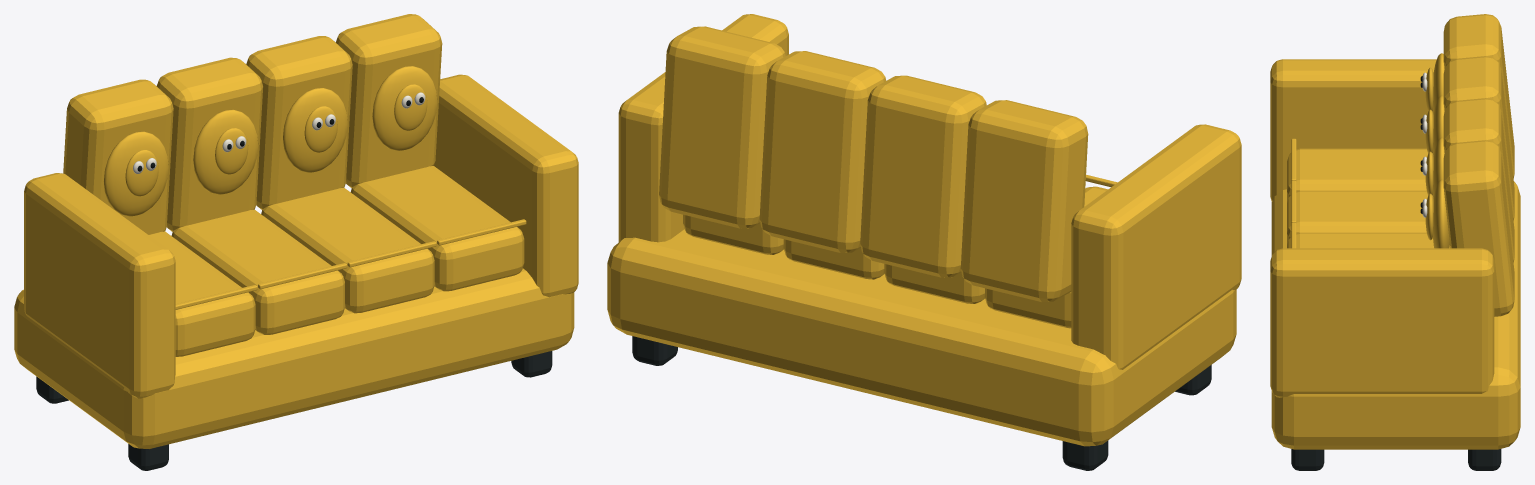
File: hiperreal.glb
3 renders of one model, left to right at view 1: azimuth 30°, elevation 25°; view 2: azimuth 150°, elevation 25°; view 3: azimuth 270°, elevation 25°, orthographic. The views are drawn at different scales.
Parts seen in each view (by area): view 1: Upholstered base, Armrest, Armrest.001, Seat cushion.003, Seat cushion.002, Seat cushion.001, Back cushion.002, Back cushion.001, Back cushion.003, Back cushion, Seat cushion, Decorative cushion (+12 smaller); view 2: Upholstered base, Armrest, Back cushion, Back cushion.001, Back cushion.003, Back cushion.002, Armrest.001, Seat cushion, Seat cushion.002, Seat cushion.001, Seat cushion.003, Sofa foot (+1 smaller); view 3: Armrest.001, Upholstered base, Armrest, Back cushion.003, Seat cushion.001, Seat cushion, Back cushion.001, Back cushion, Back cushion.002, Seat cushion.002, Decorative cushion.003, Sofa foot.002 (+8 smaller).
Boxes of the visible parts, <box> form: Upholstered base: <box>14,268,574,448</box>; Armrest: <box>24,173,175,398</box>; Armrest.001: <box>434,74,578,297</box>; Seat cushion.003: <box>350,166,524,291</box>; Seat cushion.002: <box>261,187,434,313</box>; Seat cushion.001: <box>171,209,344,334</box>; Back cushion.002: <box>246,36,352,209</box>; Back cushion.001: <box>157,57,262,231</box>; Back cushion.003: <box>336,14,442,187</box>; Back cushion: <box>63,79,173,234</box>; Seat cushion: <box>149,231,255,356</box>; Decorative cushion: <box>104,131,168,216</box>; Upholstered base: <box>607,229,1236,446</box>; Armrest: <box>1071,124,1241,369</box>; Back cushion: <box>960,100,1088,302</box>; Back cushion.001: <box>860,75,986,277</box>; Back cushion.003: <box>659,26,785,228</box>; Back cushion.002: <box>759,51,886,252</box>; Armrest.001: <box>618,14,788,242</box>; Seat cushion: <box>985,186,1107,328</box>; Seat cushion.002: <box>783,239,884,279</box>; Seat cushion.001: <box>884,264,985,303</box>; Seat cushion.003: <box>683,214,783,254</box>; Sofa foot: <box>1062,440,1108,470</box>; Armrest.001: <box>1270,248,1494,397</box>; Upholstered base: <box>1271,181,1520,449</box>; Armrest: <box>1270,59,1436,201</box>; Back cushion.003: <box>1443,140,1514,316</box>; Seat cushion.001: <box>1287,190,1432,244</box>; Seat cushion: <box>1287,148,1432,202</box>; Back cushion.001: <box>1443,56,1514,220</box>; Back cushion: <box>1443,14,1514,178</box>; Back cushion.002: <box>1443,98,1514,262</box>; Seat cushion.002: <box>1287,232,1450,248</box>; Decorative cushion.003: <box>1433,179,1449,248</box>; Sofa foot.002: <box>1468,449,1501,470</box>.
Bounding box in the file's own units: 1 × 0.6299 × 0.5028.
